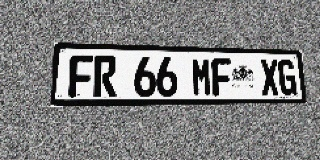6: (134, 56, 156, 97), (156, 57, 178, 97)
F: (69, 55, 93, 97), (211, 58, 232, 96)
G: (278, 59, 297, 95)
M: (191, 57, 212, 96)
R: (93, 55, 117, 97)
X: (260, 59, 280, 96)
